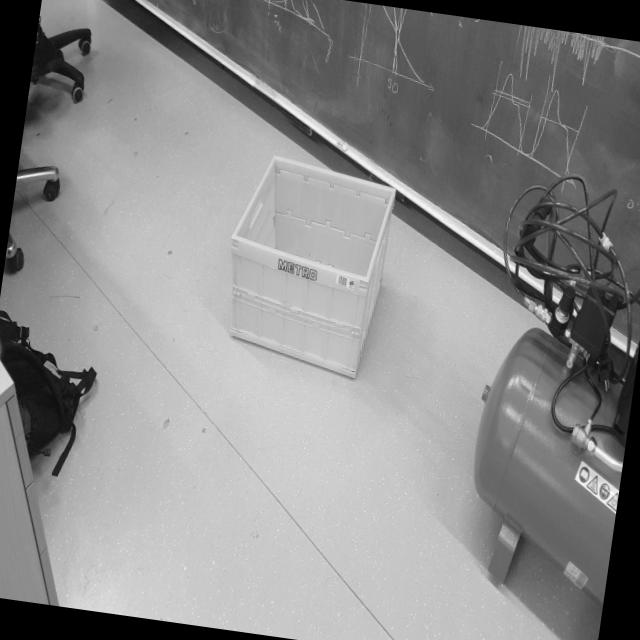box: (204, 144, 415, 406)
